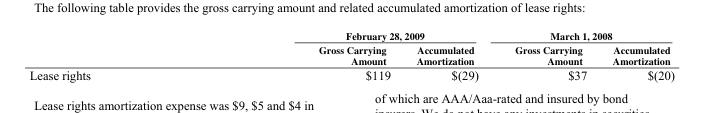table: (28, 28, 674, 81)
table column: (204, 28, 402, 81), (28, 28, 204, 81), (496, 28, 599, 81), (402, 28, 496, 81), (599, 28, 674, 81)
table column header: (28, 28, 674, 67)
table row: (28, 42, 674, 67), (28, 28, 674, 42), (28, 67, 674, 81)
table spanning cell: (204, 28, 496, 42), (496, 28, 674, 42)
